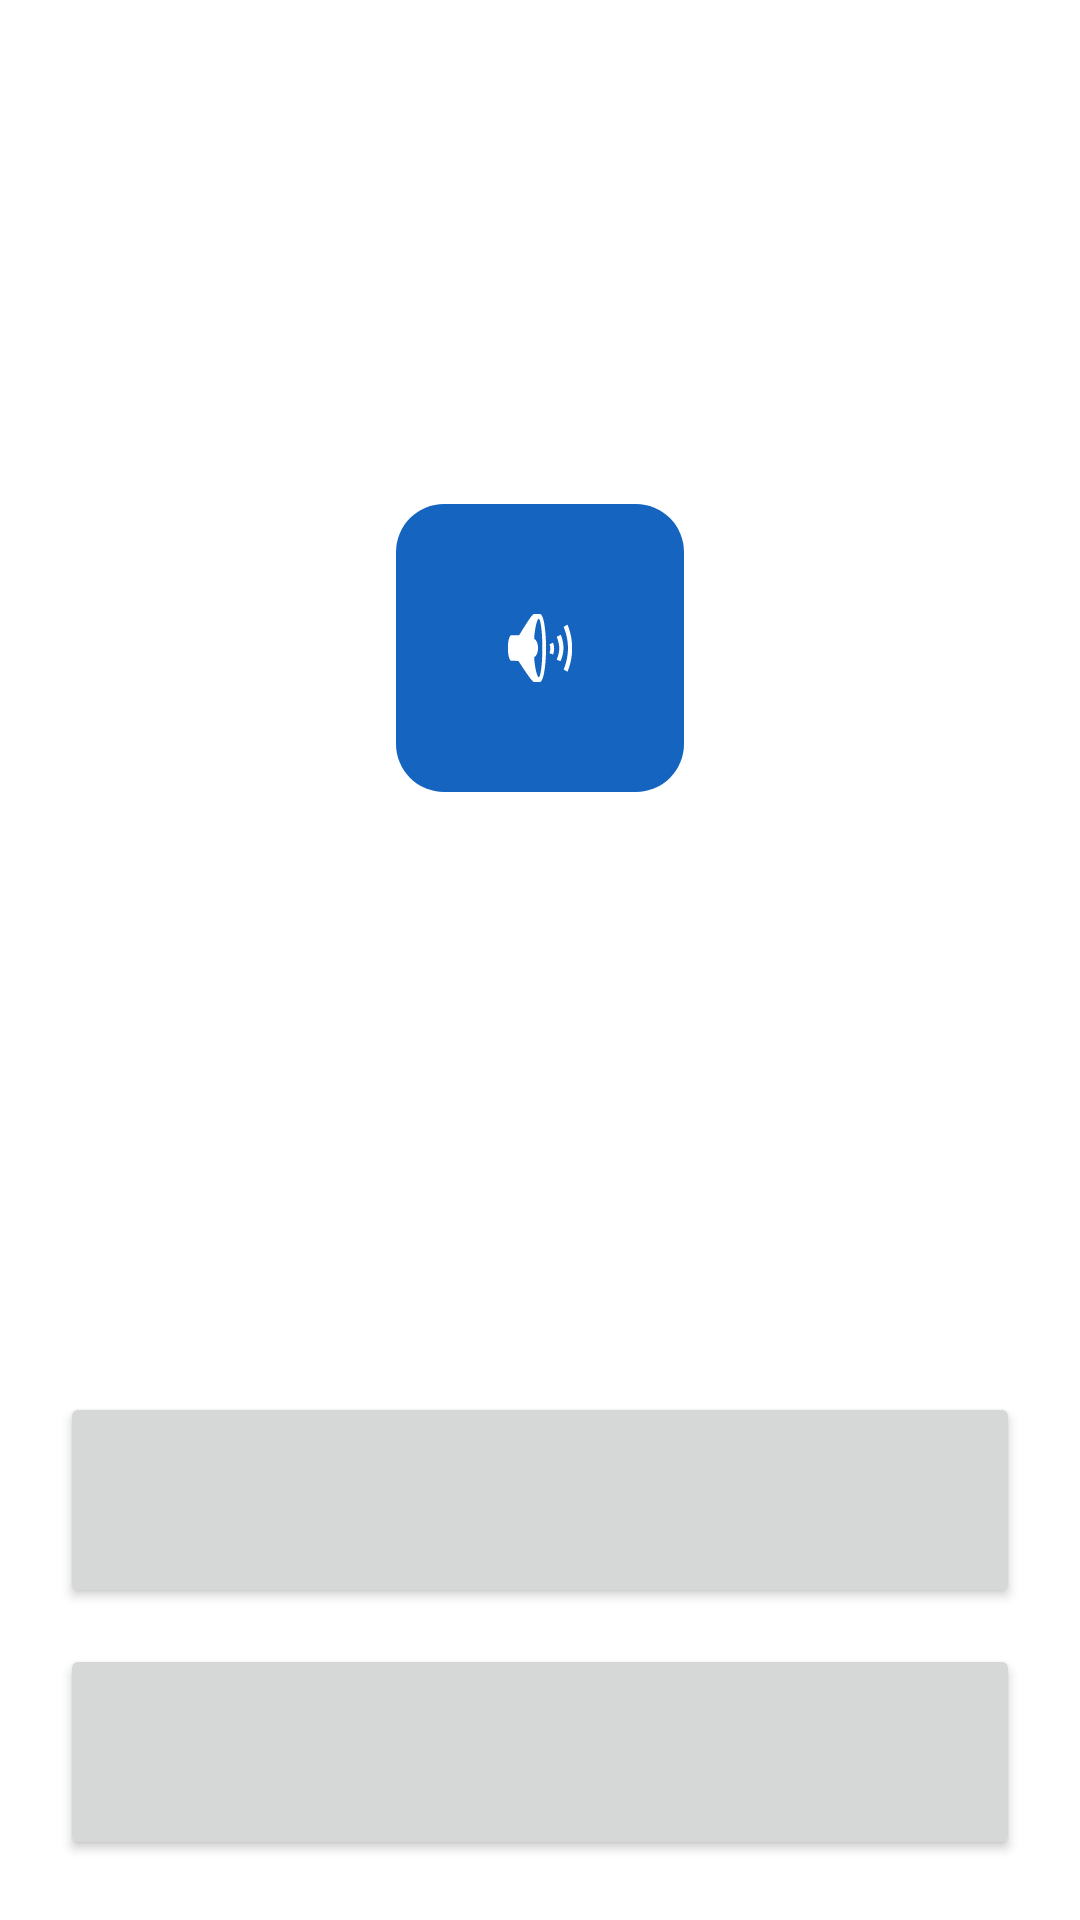

Icons on this 1080*1920 Android screen, each with its box as {"x1": x1, "y1": y1, "x2": x2, "y2": y2}:
Play phrase: {"x1": 396, "y1": 504, "x2": 684, "y2": 792}
